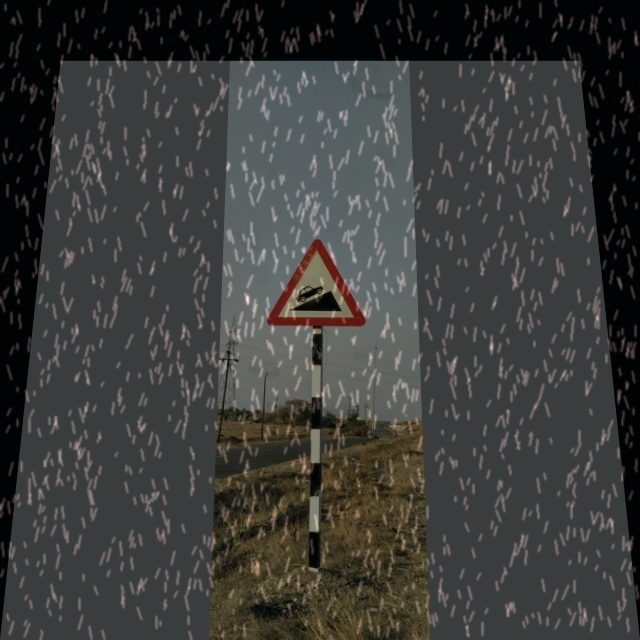Steep_Ascent: (270, 239, 368, 330)
